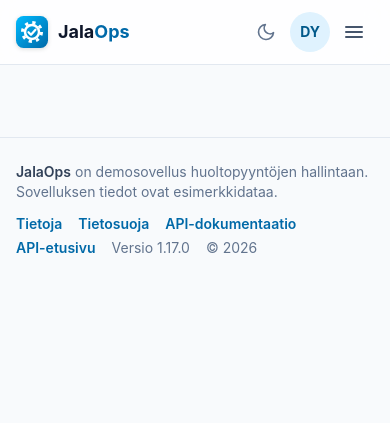
Test: App navigation › closes the menu when keyboard focus leaves it
Click the button named "Valikko".
click(354, 32)  # box [334, 12, 374, 52]
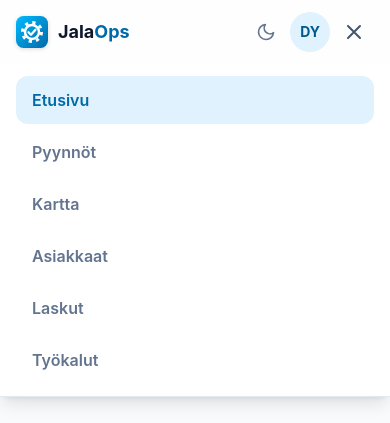
Leave the link "Työkalut", box [32, 350, 98, 370]
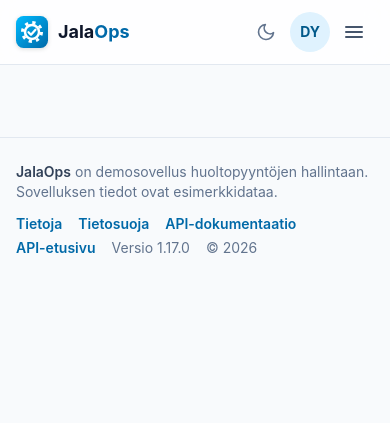
Now the navigation bar with id "mobile-nav" is gone
